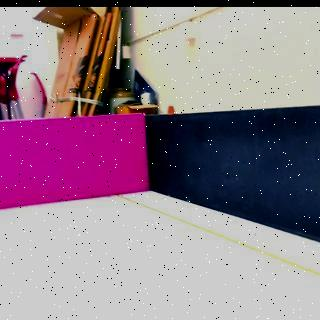xparking: (2, 122, 146, 205)
